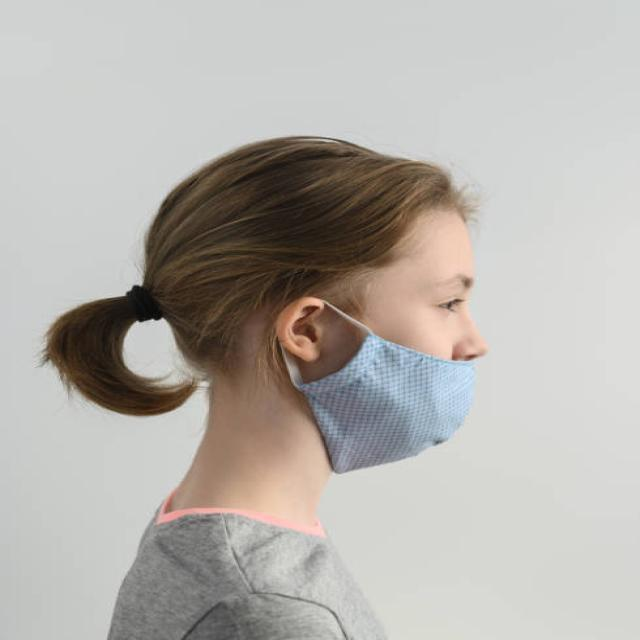hairnet: (290, 298, 489, 473)
